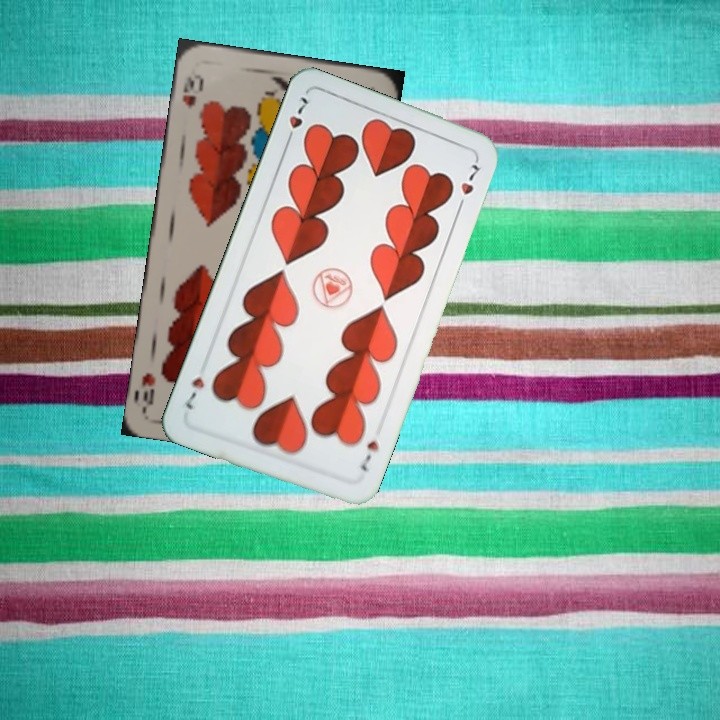H10: (178, 65, 207, 112)
H7: (282, 93, 311, 148), (356, 436, 382, 474)
